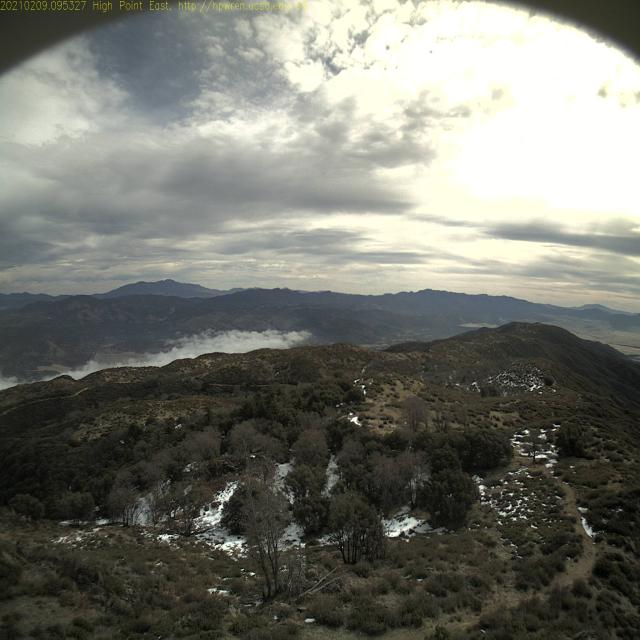smoke: (497, 314, 511, 324)
